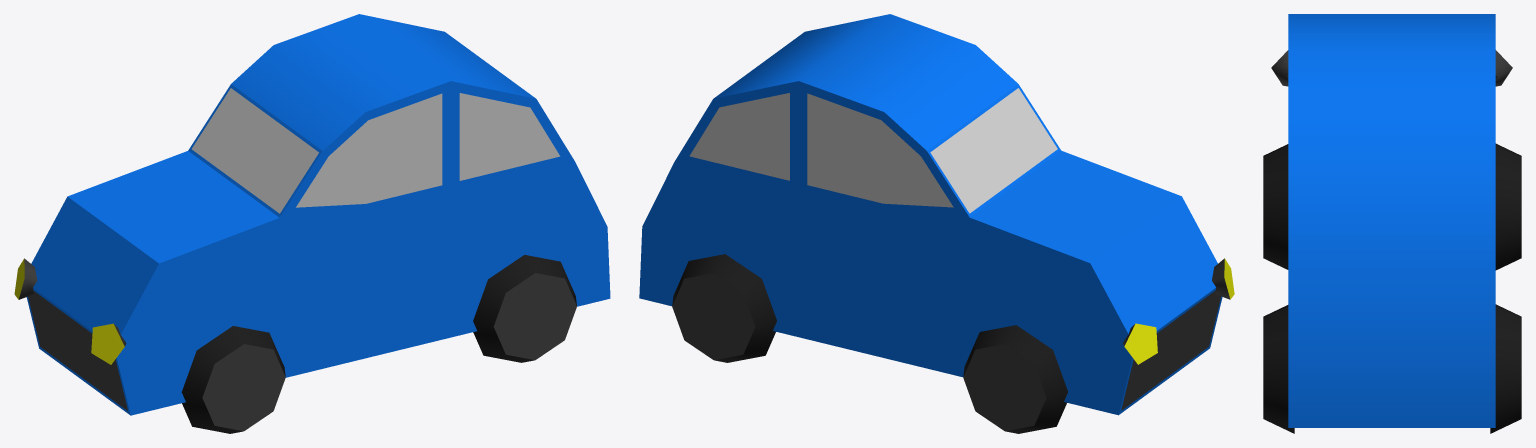
File: Wooden_Car_A.FBX
3 views of the same model, side by side, from view 1: azimuth 30°, elevation 25°; view 2: azimuth 150°, elevation 25°; view 3: azimuth 270°, elevation 25° (orthographic). The views are drawn at different scales.
Visible parts, largest first — view 1: Wooden_Car; view 2: Wooden_Car; view 3: Wooden_Car.
Boxes of the visible parts, x1,y1,x2,y2 form: Wooden_Car: (14,14,610,433); Wooden_Car: (639,14,1234,433); Wooden_Car: (1263,14,1521,433).
Size of the model in its own units: 112 by 63.34 by 43.43.
